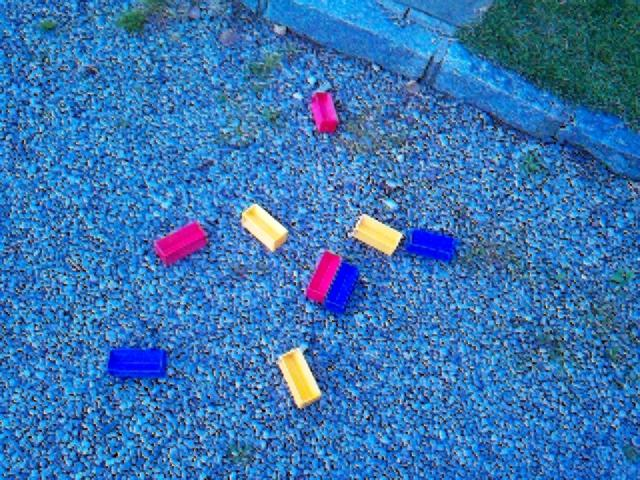blue: (108, 348, 167, 380), (405, 228, 457, 264), (324, 262, 360, 314)
red: (153, 220, 208, 267), (305, 251, 342, 305), (310, 91, 340, 134)
yellow: (277, 347, 322, 410), (241, 204, 289, 252), (353, 214, 404, 257)
